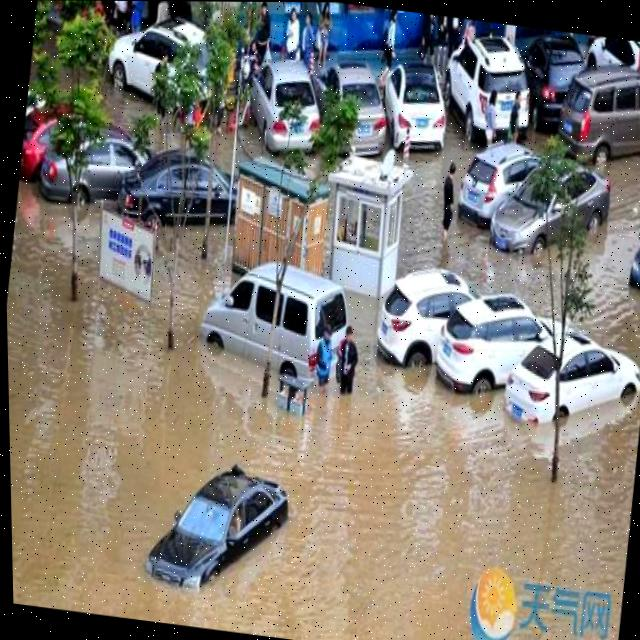civilian: (424, 155, 469, 249), (302, 319, 345, 395), (333, 312, 370, 398), (469, 88, 504, 167), (505, 89, 529, 146), (120, 1, 150, 38), (106, 1, 132, 39)
